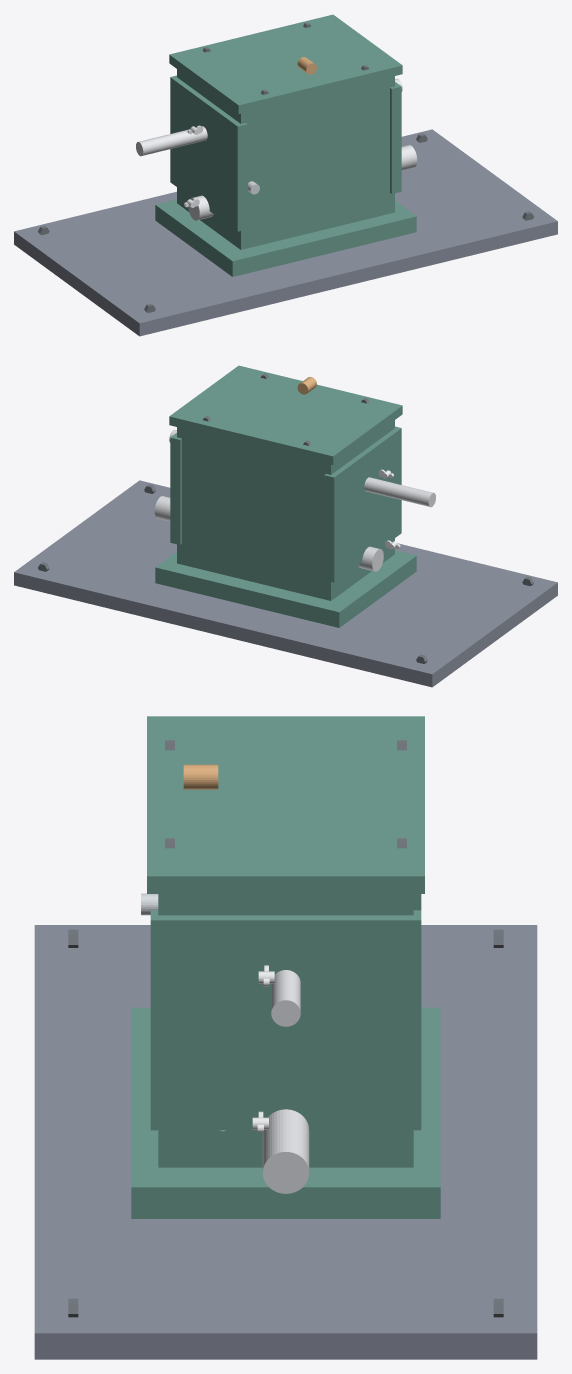
The model's file is gearbox.glb.
3 views of the same model, one above another, from view 1: azimuth 30°, elevation 25°; view 2: azimuth 150°, elevation 25°; view 3: azimuth 270°, elevation 25° (orthographic). The views are drawn at different scales.
Parts seen in each view (by area): view 1: PART_001, CASING_HOUSING_006, CASING_SPLITLINE_007, CASING_HOUSING_009, CASING_FOOT_008, CASING_HOUSING_010, PART_017, PART_018; view 2: PART_001, CASING_HOUSING_006, CASING_SPLITLINE_007, CASING_HOUSING_009, CASING_FOOT_008, CASING_HOUSING_010, PART_017, PART_018; view 3: PART_001, CASING_HOUSING_010, CASING_SPLITLINE_007, CASING_FOOT_008, CASING_HOUSING_006, PART_018, PART_017, PART_015.
Boxes of the visible parts, x1,y1,x2,y2 form: PART_001: (14,129,557,336); CASING_HOUSING_006: (177,69,394,249); CASING_SPLITLINE_007: (169,14,402,113); CASING_HOUSING_009: (170,75,247,231); CASING_FOOT_008: (155,199,416,276); CASING_HOUSING_010: (390,82,401,193); PART_017: (136,78,402,156); PART_018: (188,145,417,220); PART_001: (14,480,557,687); CASING_HOUSING_006: (177,420,394,600); CASING_SPLITLINE_007: (169,365,402,464); CASING_HOUSING_009: (324,426,401,582); CASING_FOOT_008: (155,550,416,627); CASING_HOUSING_010: (170,433,181,544); PART_017: (169,429,435,507); PART_018: (154,496,383,571); PART_001: (34,925,537,1359); CASING_HOUSING_010: (150,910,421,1130); CASING_SPLITLINE_007: (147,716,424,893); CASING_FOOT_008: (131,1007,440,1218); CASING_HOUSING_006: (158,894,413,1167); PART_018: (262,1109,309,1193); PART_017: (271,970,300,1026); PART_015: (183,764,218,789).
Bounding box in the file's own units: 2.5 × 1.14 × 1.3.
